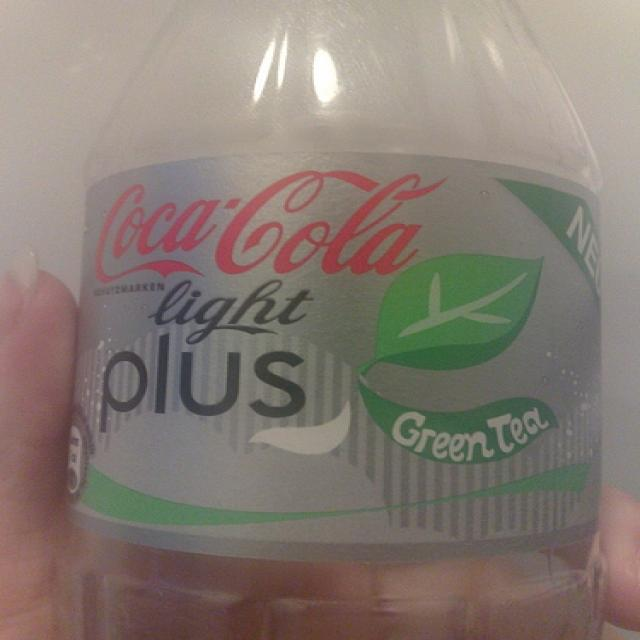cocacola: (82, 173, 459, 283)
